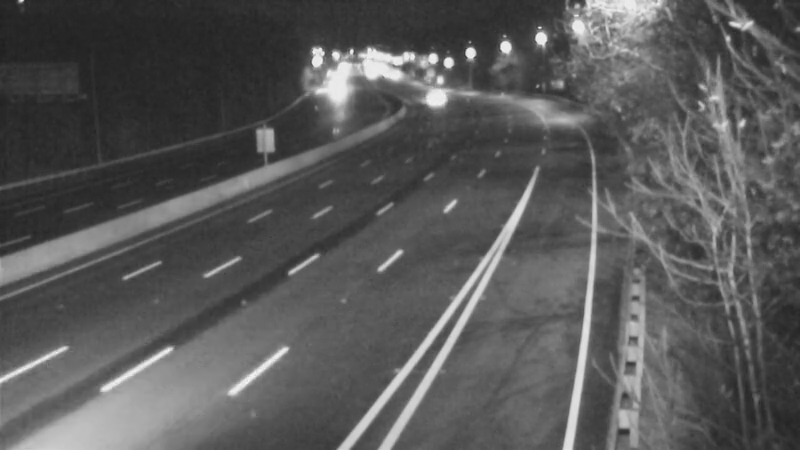vehicle: (405, 71, 455, 121)
